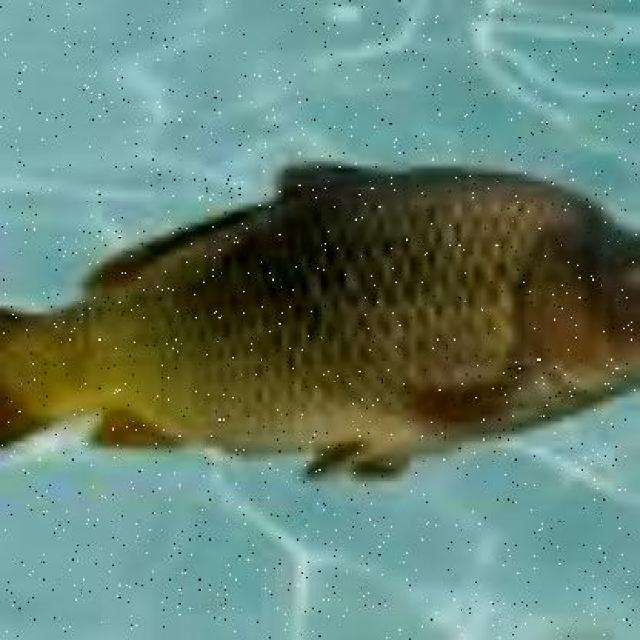ikan-mas: (0, 160, 634, 498)
